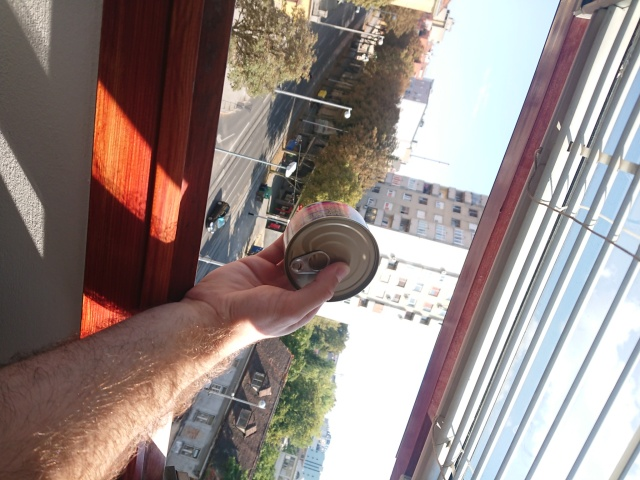Giana Tuna Salad Mexico 185g: (281, 199, 382, 304)
